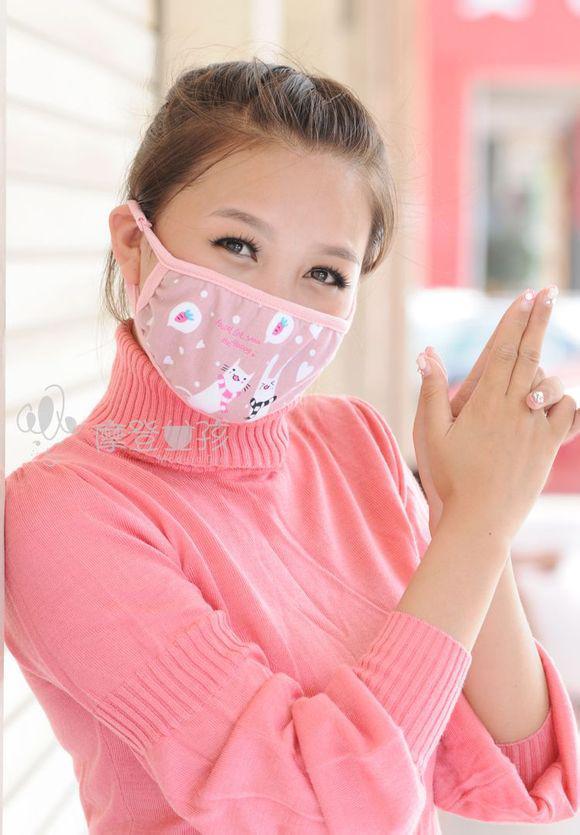OK: (143, 203, 353, 417)
